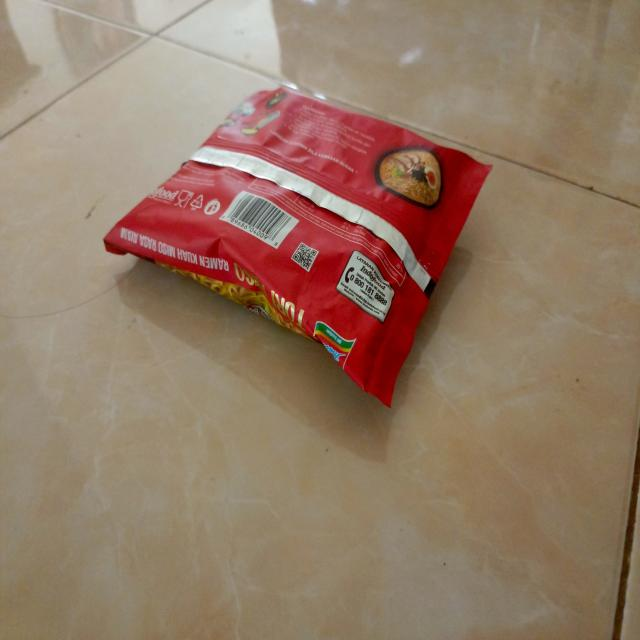indomie-tori-miso: (103, 89, 494, 413)
